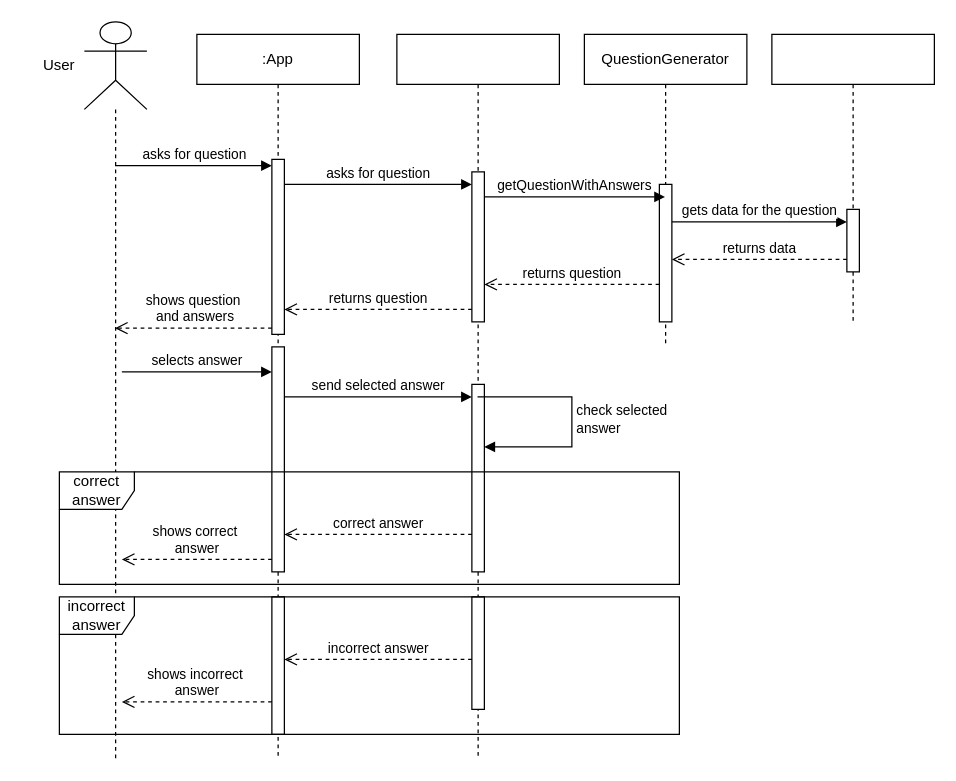
This 956x781 diagram has some shape labels left out. Each missing label, with the box of its shape:
:GatewayService: (396, 33, 559, 759)
Wikidata: (771, 33, 934, 322)
